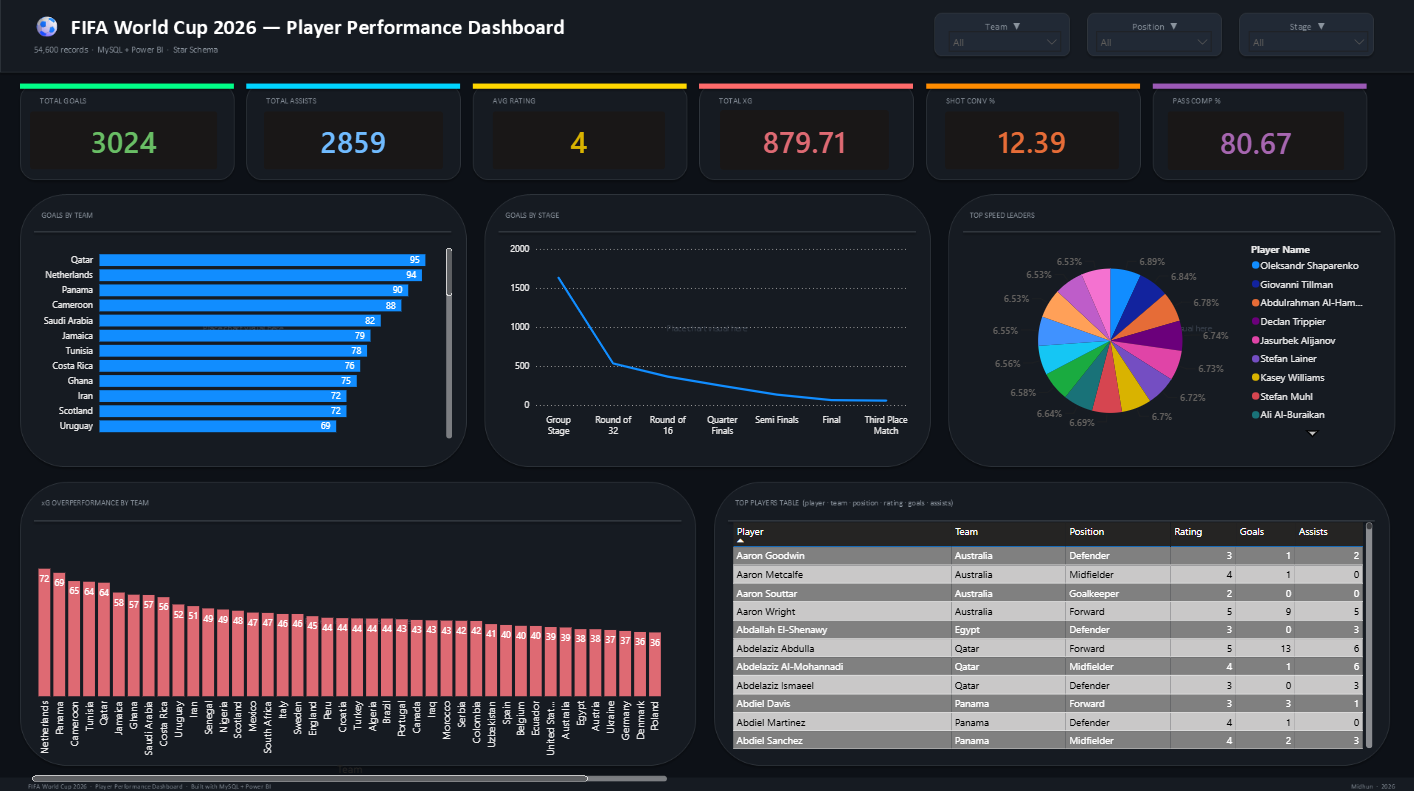

The dashboard page shown, as its layout file describes it:
{"tool":"powerbi","page":{"name":"Dashboard","canvas":[1920,1080],"ordinal":0},"visuals":[{"type":"cardVisual","fields":{"Data":["dim_matches.Total xG"]},"box":[960,131.7,263.3,115],"z":0},{"type":"cardVisual","fields":{"Data":["dim_matches.Pass Completion %"]},"box":[1566,134,274,114],"z":1000},{"type":"cardVisual","fields":{"Data":["dim_matches.Shot Conversion %"]},"box":[1265,133.8,270,113.8],"z":2000},{"type":"cardVisual","fields":{"Data":["dim_matches.Avg Player Rating"]},"box":[651.2,133.8,268.8,113.8],"z":3000},{"type":"clusteredBarChart","fields":{"Y":["dim_matches.Total Goals"],"Category":["dim_players.team"]},"box":[44,323.5,574.2,276.1],"z":4000},{"type":"lineChart","title":"Goals scored decrease as fewer teams remain each stage","fields":{"Category":["dim_matches.tournament_stage"],"Y":["dim_matches.Total Goals"]},"box":[678.3,323.3,563.3,276.7],"z":5000},{"type":"pieChart","title":"Top speed leaderboard ","fields":{"Category":["dim_players.player_name"],"Y":["Avg(fact_performance.top_speed_kmh)"]},"box":[1310,323,555,277],"z":6000},{"type":"clusteredColumnChart","fields":{"Category":["dim_players.Team"],"Y":["dim_matches.xG Overperformance"]},"box":[36.7,737.8,872.2,327.8],"z":7000},{"type":"tableEx","fields":{"Values":["dim_players.player_name","dim_players.Team","dim_players.position","dim_matches.Avg Player Rating","dim_matches.Total Goals","dim_matches.Total Assists"]},"box":[988,704,878,316],"z":8000},{"type":"cardVisual","fields":{"Data":["dim_matches.Goals"]},"box":[23.8,133.8,288.8,113.8],"z":9000},{"type":"cardVisual","fields":{"Data":["dim_matches.Assists"]},"box":[340,133.8,277.5,113.8],"z":10000},{"type":"slicer","fields":{"Values":["dim_matches.tournament_stage"]},"box":[1683.3,32.2,182.2,42.2],"z":11000},{"type":"slicer","fields":{"Values":["dim_players.position"]},"box":[1476.7,32.2,176.7,42.2],"z":12000},{"type":"slicer","fields":{"Values":["dim_players.Team"]},"box":[1275.6,32.2,172.2,42.2],"z":13000}]}

Visuals, with their boxes in screenshot pixels (x1, y1, x2, y2), scaled from the page's 1920x1080 canvas onto the 1414x791 screenshot:
cardVisual - dim_matches.Total xG: [707,96,901,181]
cardVisual - dim_matches.Pass Completion %: [1153,98,1355,182]
cardVisual - dim_matches.Shot Conversion %: [932,98,1130,181]
cardVisual - dim_matches.Avg Player Rating: [480,98,678,181]
clusteredBarChart - dim_matches.Total Goals x dim_players.team: [32,237,455,439]
"Goals scored decrease as fewer teams remain each stage" lineChart: [500,237,914,439]
"Top speed leaderboard " pieChart: [965,237,1373,439]
clusteredColumnChart - dim_players.Team x dim_matches.xG Overperformance: [27,540,669,780]
tableEx - dim_players.player_name x dim_players.Team: [728,516,1374,747]
cardVisual - dim_matches.Goals: [18,98,230,181]
cardVisual - dim_matches.Assists: [250,98,455,181]
slicer - dim_matches.tournament_stage: [1240,24,1374,54]
slicer - dim_players.position: [1088,24,1218,54]
slicer - dim_players.Team: [939,24,1066,54]
